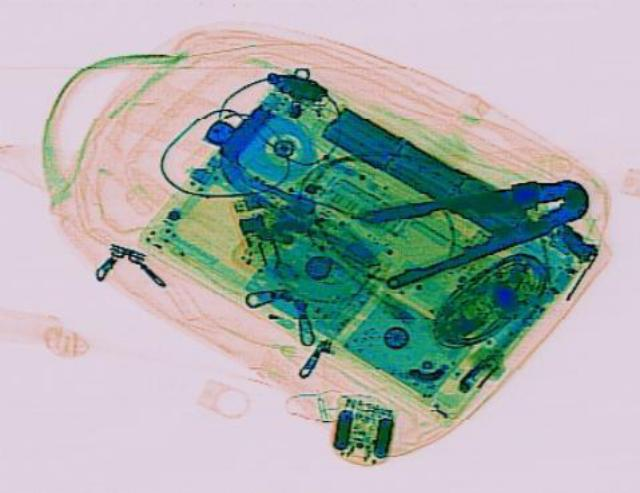Pliers: (348, 157, 606, 288)
